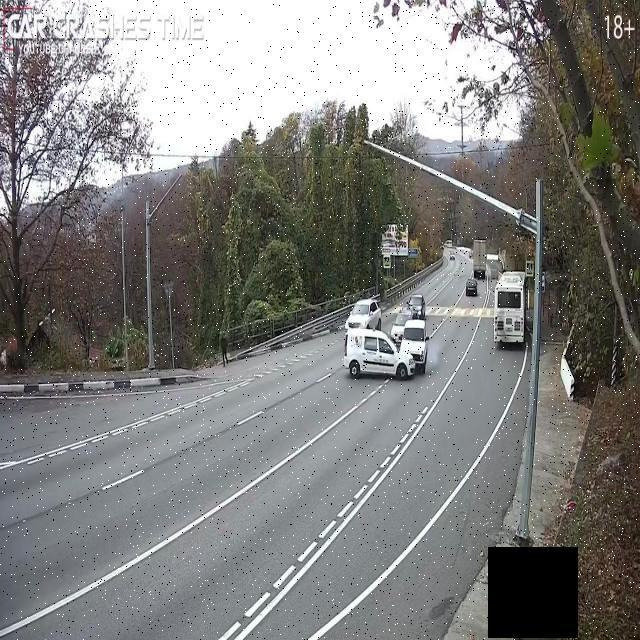moderate: (341, 309, 432, 384)
